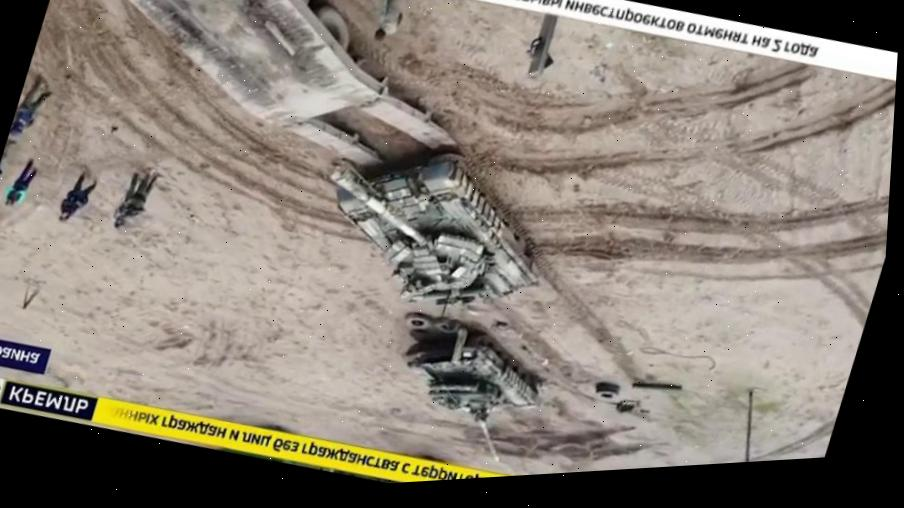person: (8, 70, 56, 140), (54, 160, 102, 226), (100, 165, 141, 233), (122, 163, 163, 226), (0, 151, 42, 212), (370, 0, 419, 47), (0, 136, 16, 195)
tank: (292, 118, 573, 336), (375, 312, 560, 475)
